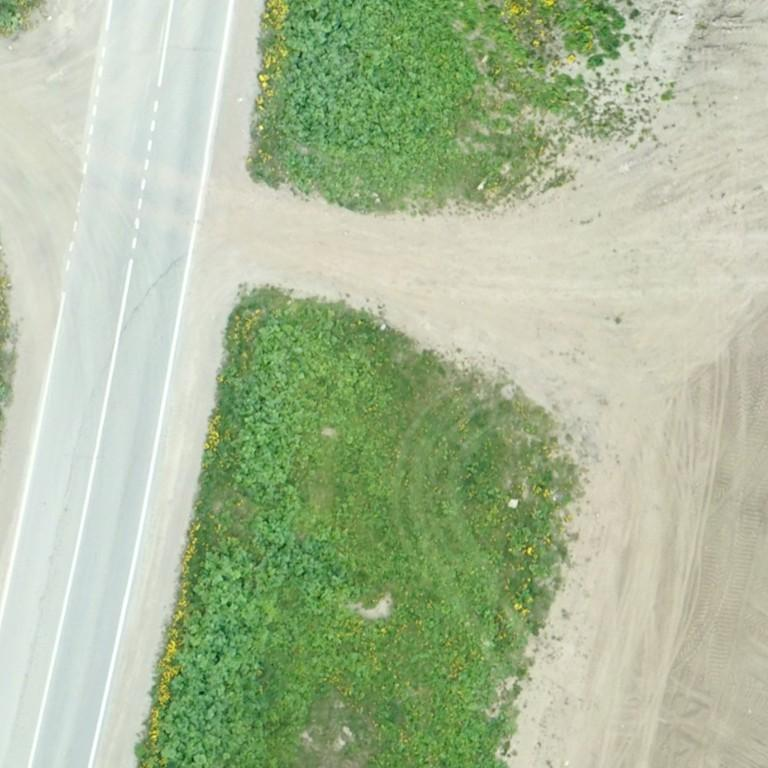hogweed: (157, 511, 350, 767), (280, 0, 473, 149), (228, 326, 368, 507)
